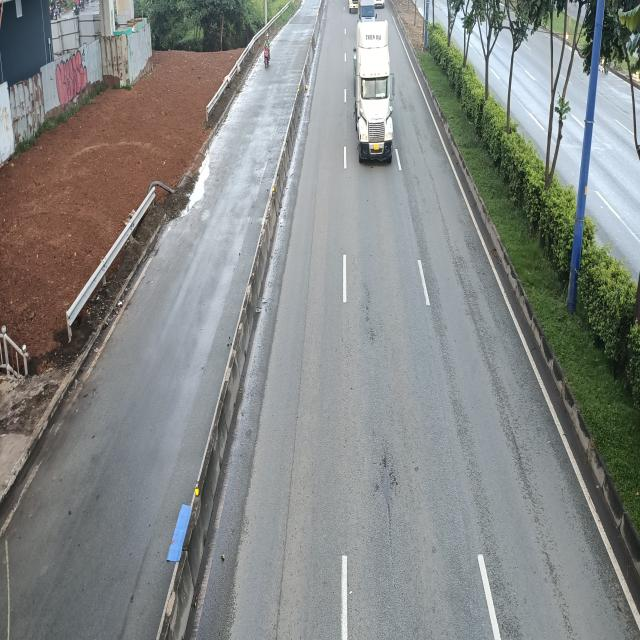container: (354, 16, 395, 162)
